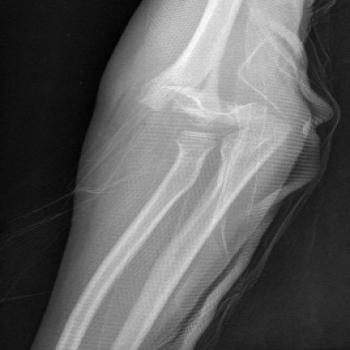Fracture: (126, 98, 212, 146)
